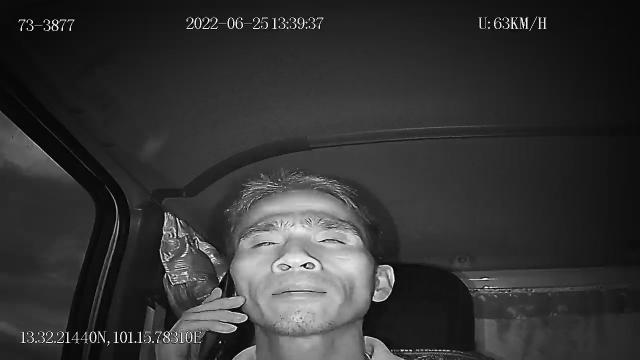Phone: (199, 268, 237, 360)
